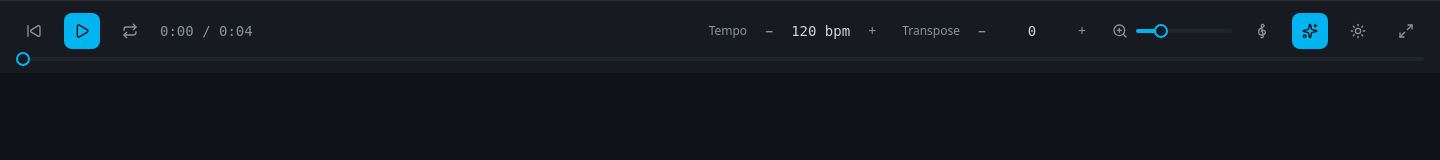
Scenario: TransportBar › shows play, and pause once the transport is playing
Click the button named "Play (space)": (82, 31) top-left (64, 13), bottom-right (100, 49)
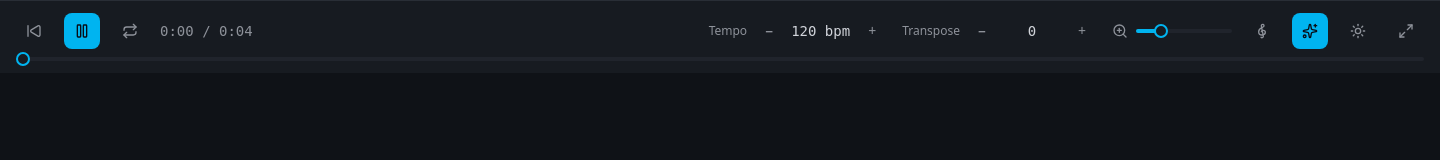
Now the button named "Pause (space)" is shown, box top-left (64, 13), bottom-right (100, 49)
